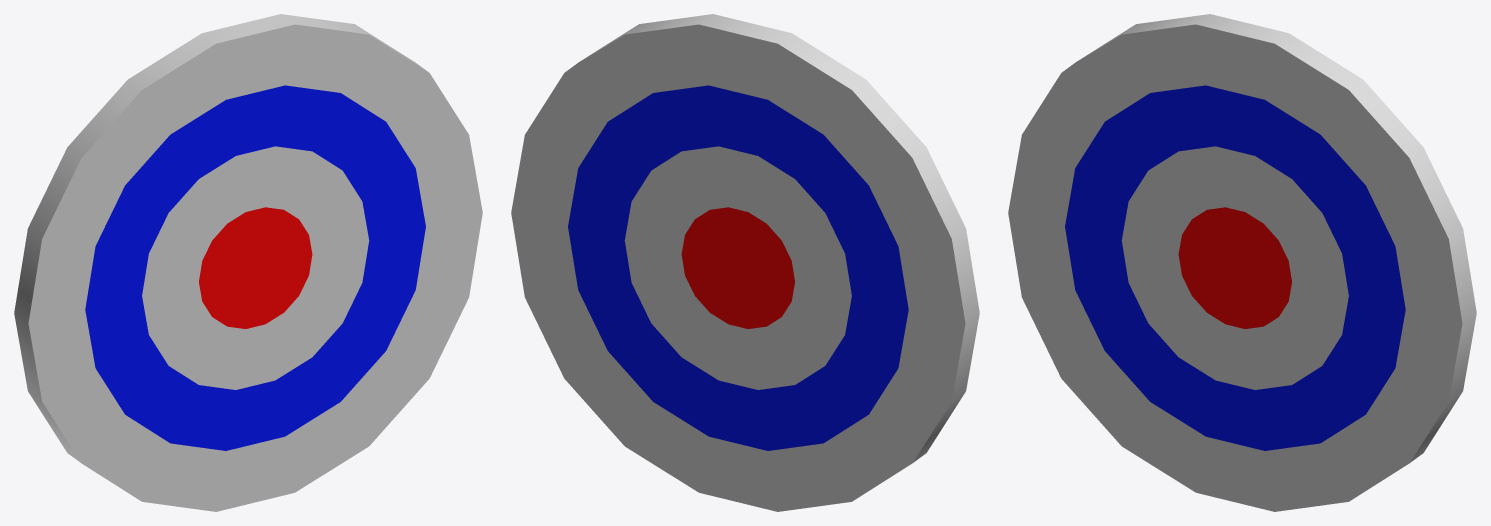
Rendered from Target.FBX.
The picture shows the model from 3 angles, left to right: view 1: azimuth 30°, elevation 25°; view 2: azimuth 150°, elevation 25°; view 3: azimuth 330°, elevation 25°; orthographic projection.
Parts seen in each view (by area): view 1: Cylinder002; view 2: Cylinder002; view 3: Cylinder002.
Part boxes in pixels (bbox=[...]): Cylinder002: bbox=[14, 14, 482, 511]; Cylinder002: bbox=[511, 14, 979, 511]; Cylinder002: bbox=[1008, 14, 1476, 511].
Bounding box in the file's own units: 108 × 106 × 5.88.
